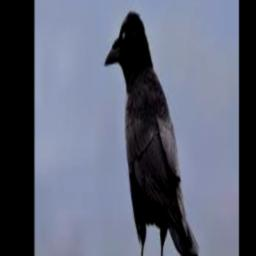Crow: (104, 9, 198, 256)
